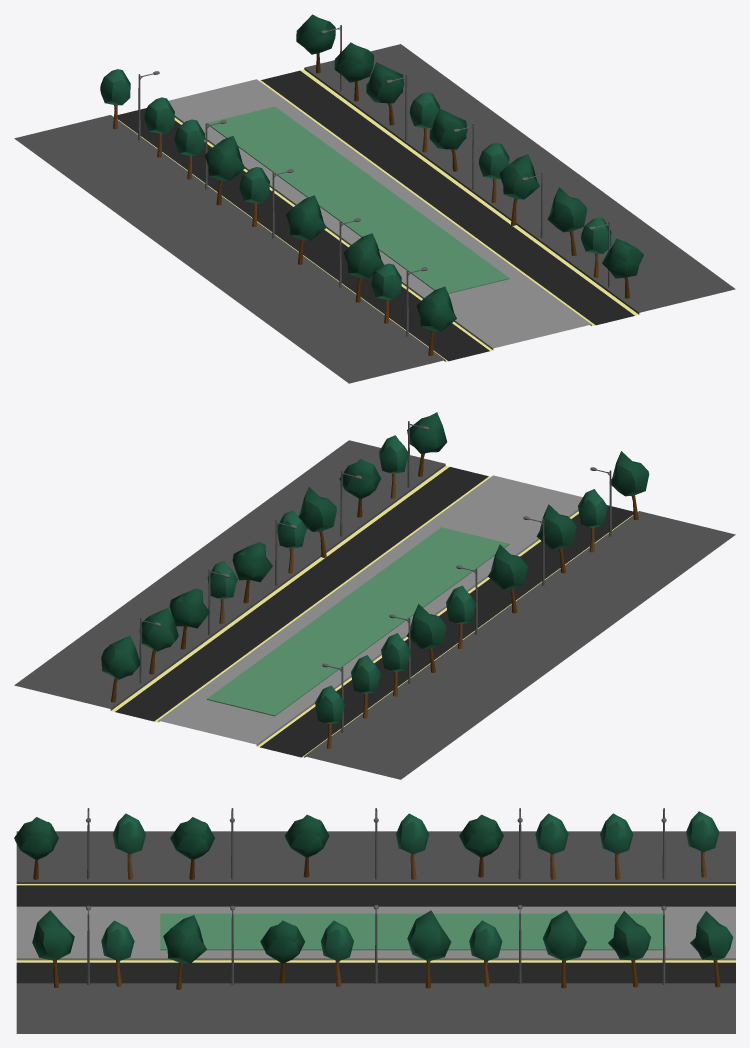
The model's file is Block02.fbx.
3 views of the same model, one above another, from view 1: azimuth 30°, elevation 25°; view 2: azimuth 150°, elevation 25°; view 3: azimuth 270°, elevation 25° (orthographic). The views are drawn at different scales.
Visible parts, largest first — view 1: Block02; view 2: Block02; view 3: Block02.
Boxes of the visible parts, x1=… form: Block02: x1=14, y1=14, x2=735, y2=383; Block02: x1=14, y1=412, x2=735, y2=779; Block02: x1=14, y1=808, x2=735, y2=1033.
Bounding box in the file's own units: 2000 × 336 × 3011.
Materials: 2 (1 with a texture image).
